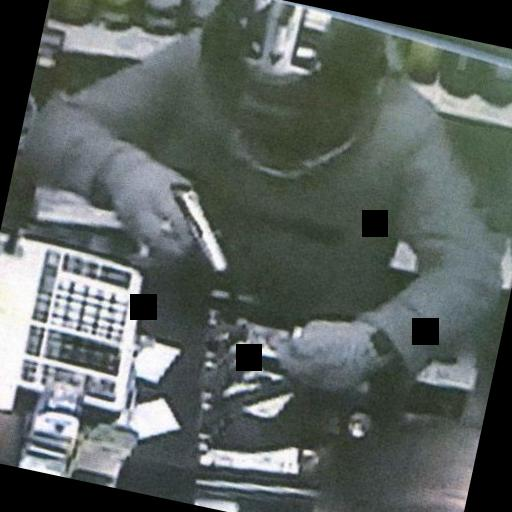Handgun: (116, 171, 248, 276)
